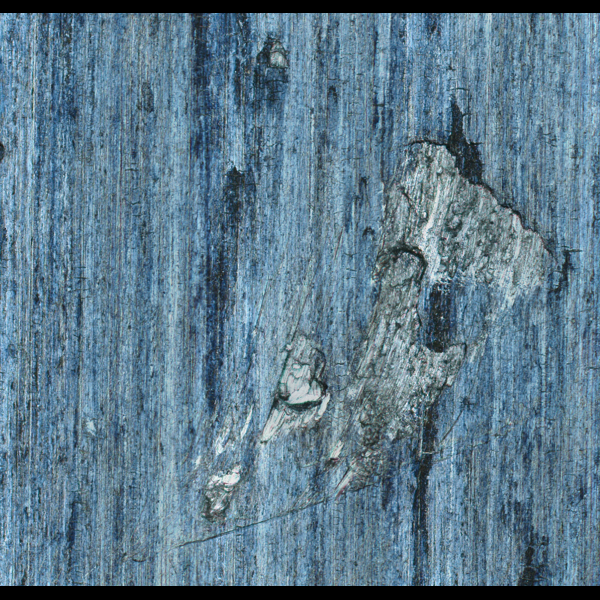d: (185, 99, 577, 525), (249, 33, 292, 97)
